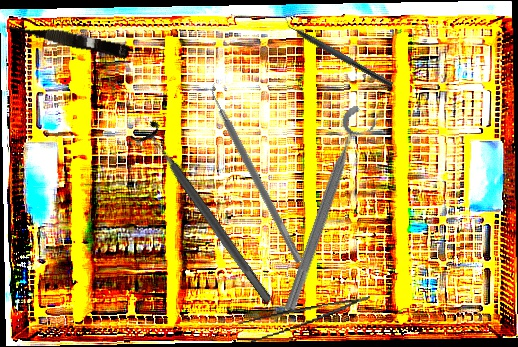Chopper: (278, 12, 398, 89)
Fixation Ring: (127, 116, 284, 312), (277, 103, 382, 318)
Micro Scissor: (0, 15, 131, 60)
Spatula Surgical: (203, 81, 311, 264)
Tissue Forceps: (232, 296, 375, 345)
